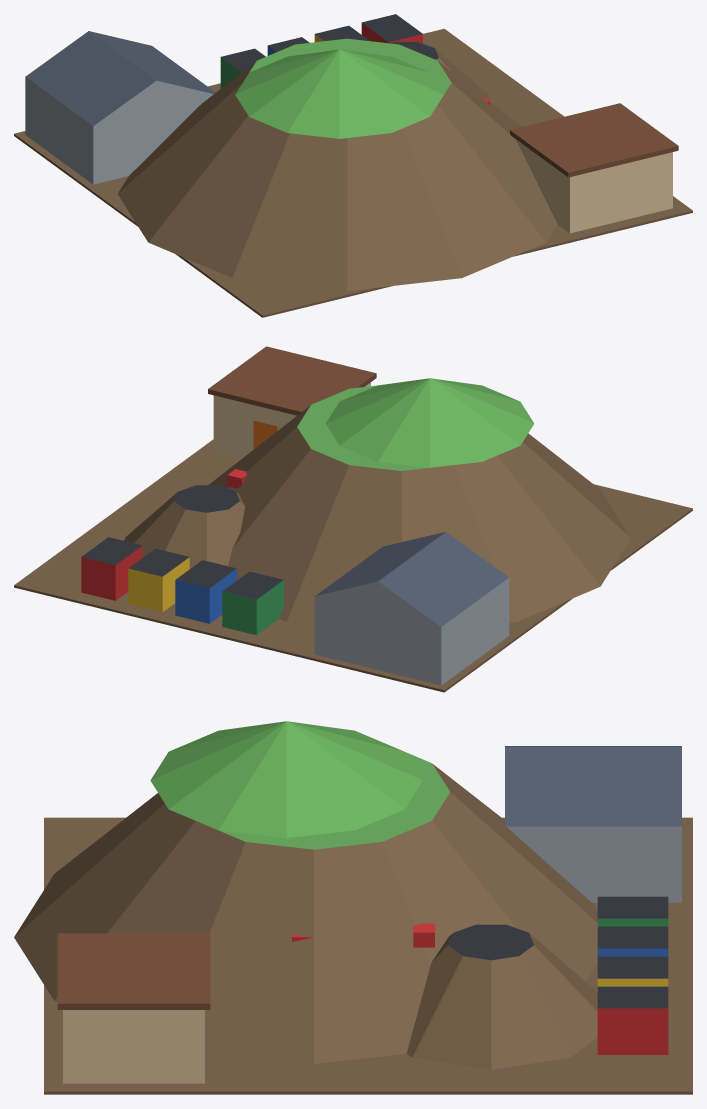
The model's file is Svc_landfill.fbx.
3 views of the same model, one above another, from view 1: azimuth 30°, elevation 25°; view 2: azimuth 150°, elevation 25°; view 3: azimuth 270°, elevation 25° (orthographic). The views are drawn at different scales.
Parts seen in each view (by area): view 1: Svc_landfill_LOD0; view 2: Svc_landfill_LOD0; view 3: Svc_landfill_LOD0.
Part boxes in pixels (x1,y1,x2,y2): Svc_landfill_LOD0: [14, 14, 692, 317]; Svc_landfill_LOD0: [14, 346, 692, 692]; Svc_landfill_LOD0: [14, 721, 692, 1094].
Size of what is drawn, in the model's own units: 2440 by 840 by 2490.
1 material, 1 textured.
